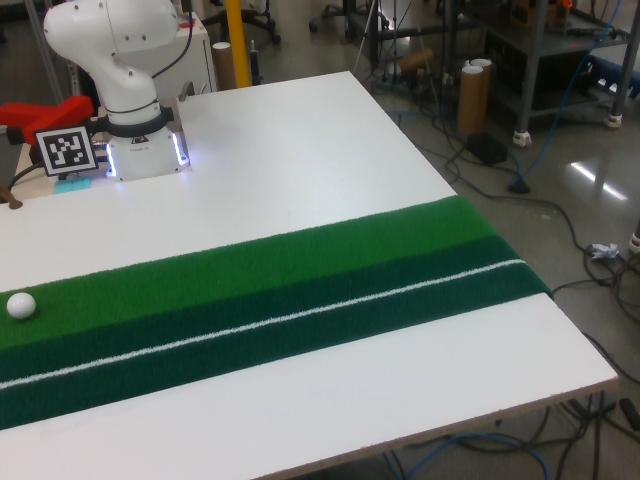golf_balls: (7, 292, 36, 318)
